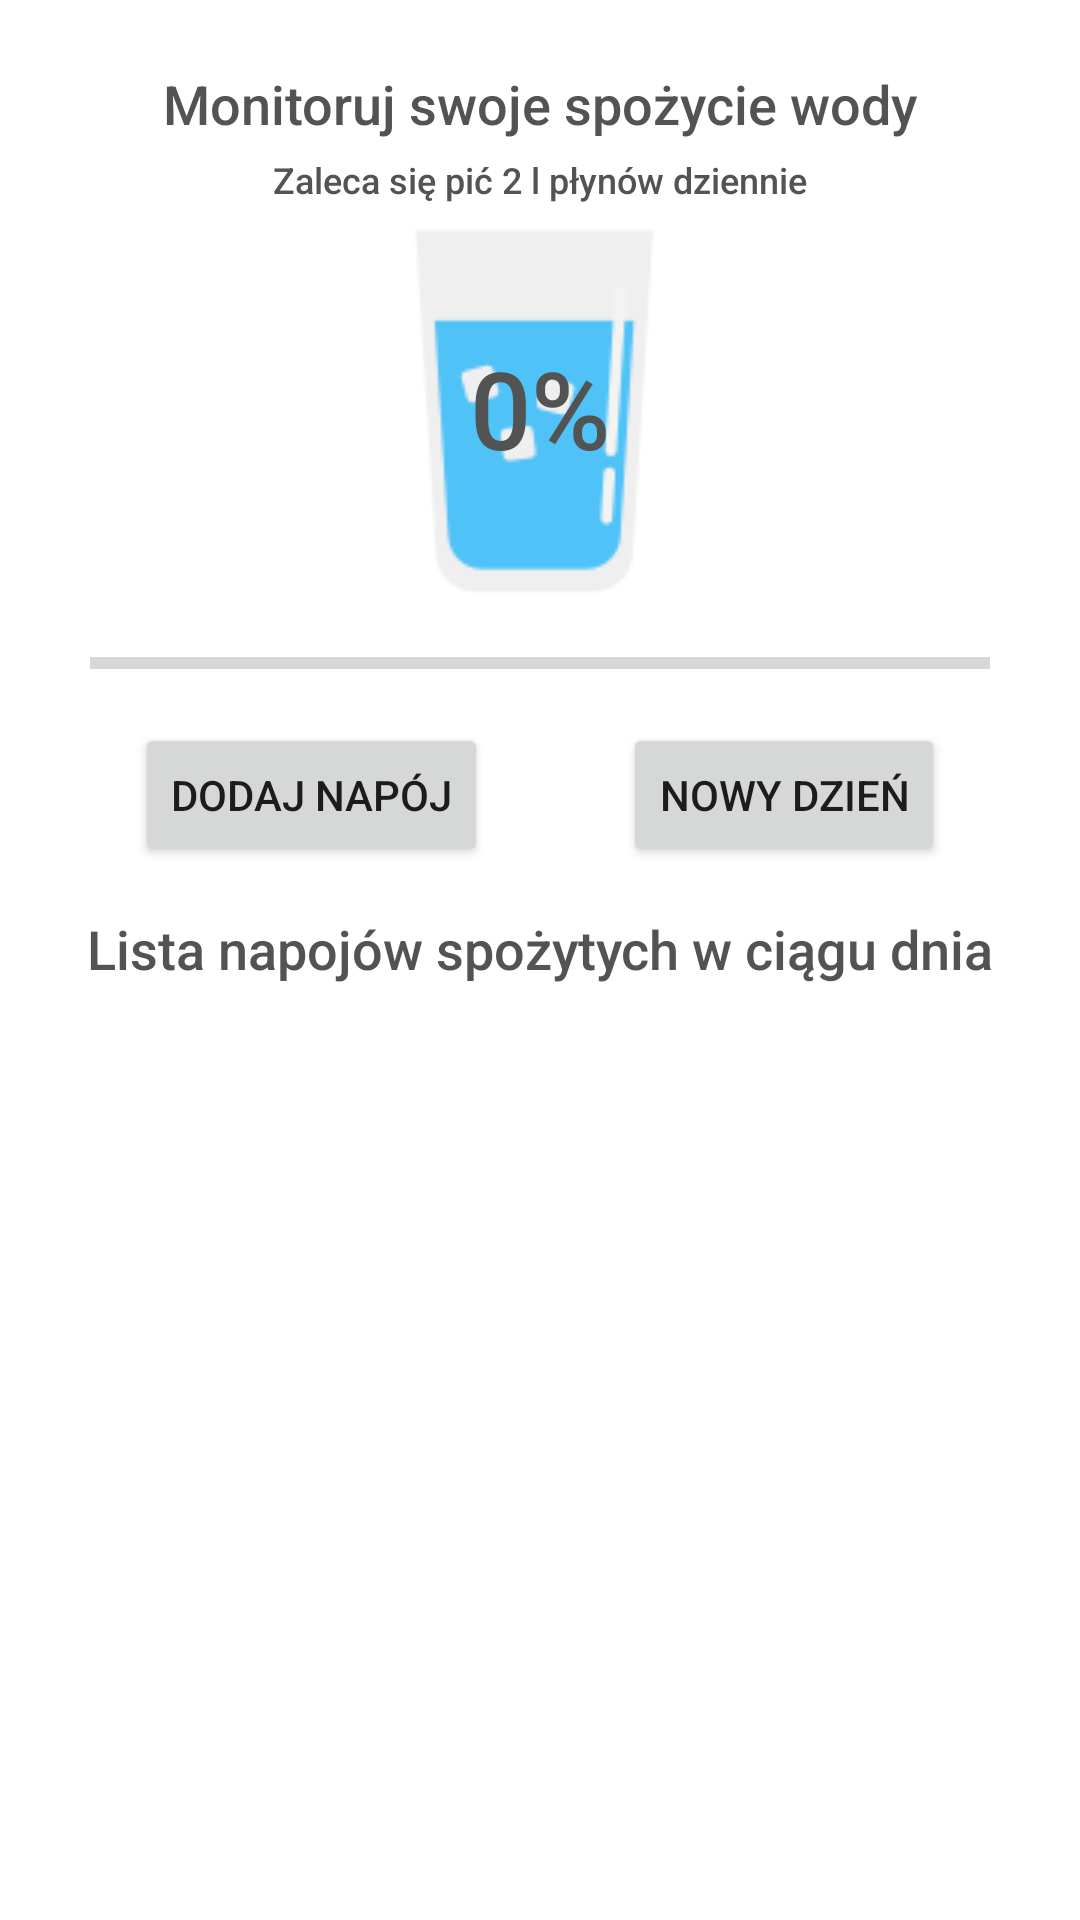

Screen size 1080 × 1920. Icon name, then its box in pixels as (x1, y1, x2, y2):
wat: (434, 318, 637, 571)
